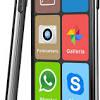Smartphone: (30, 0, 97, 100), (5, 0, 29, 100)
